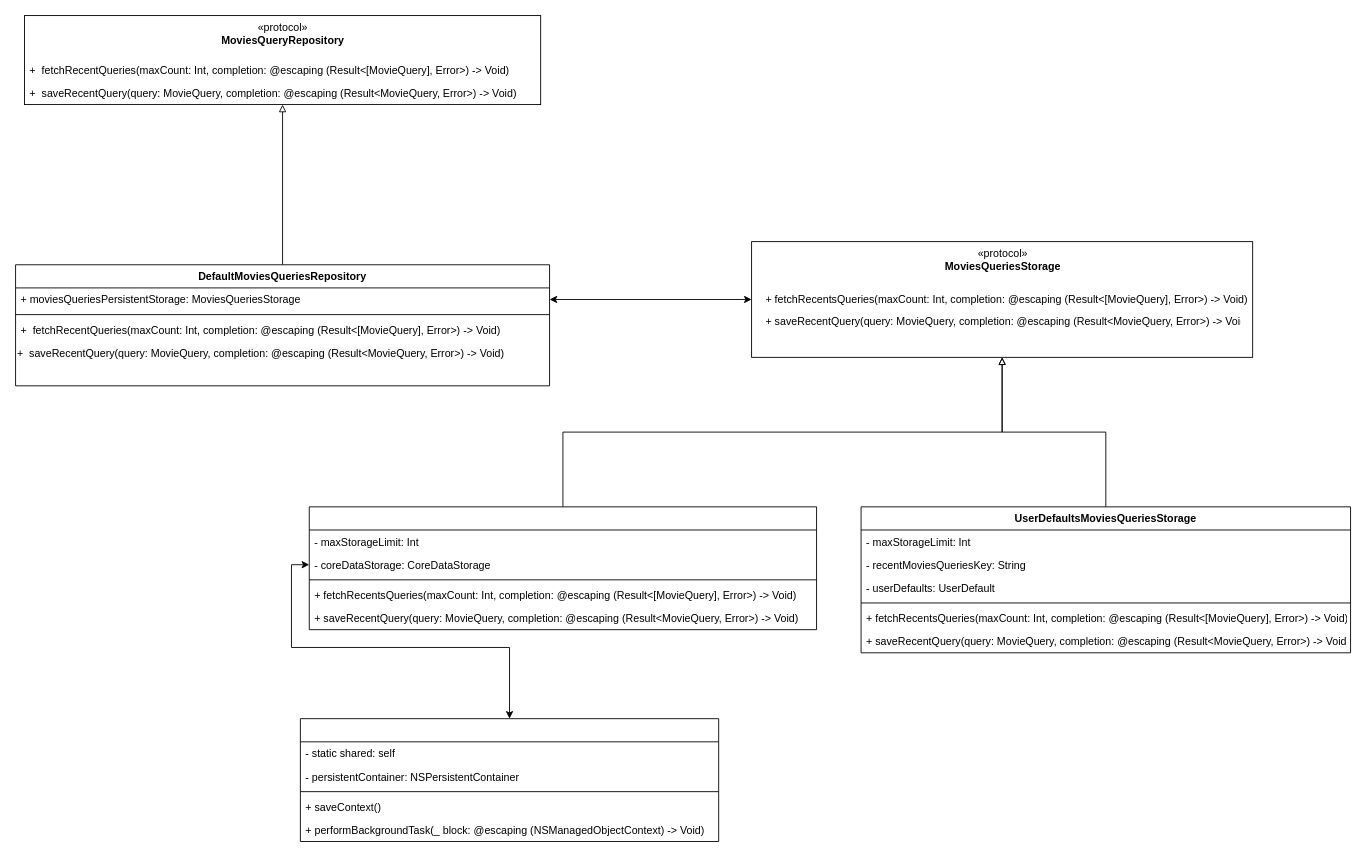
This 1366x860 diagram has some shape labels left out. The box of each missing label's shape, as (x1, y1, x2, y2) in pixels:
CoreDataMoviesQueriesStorage: (308, 506, 817, 630)
CoreDataStorage: (299, 718, 719, 841)
